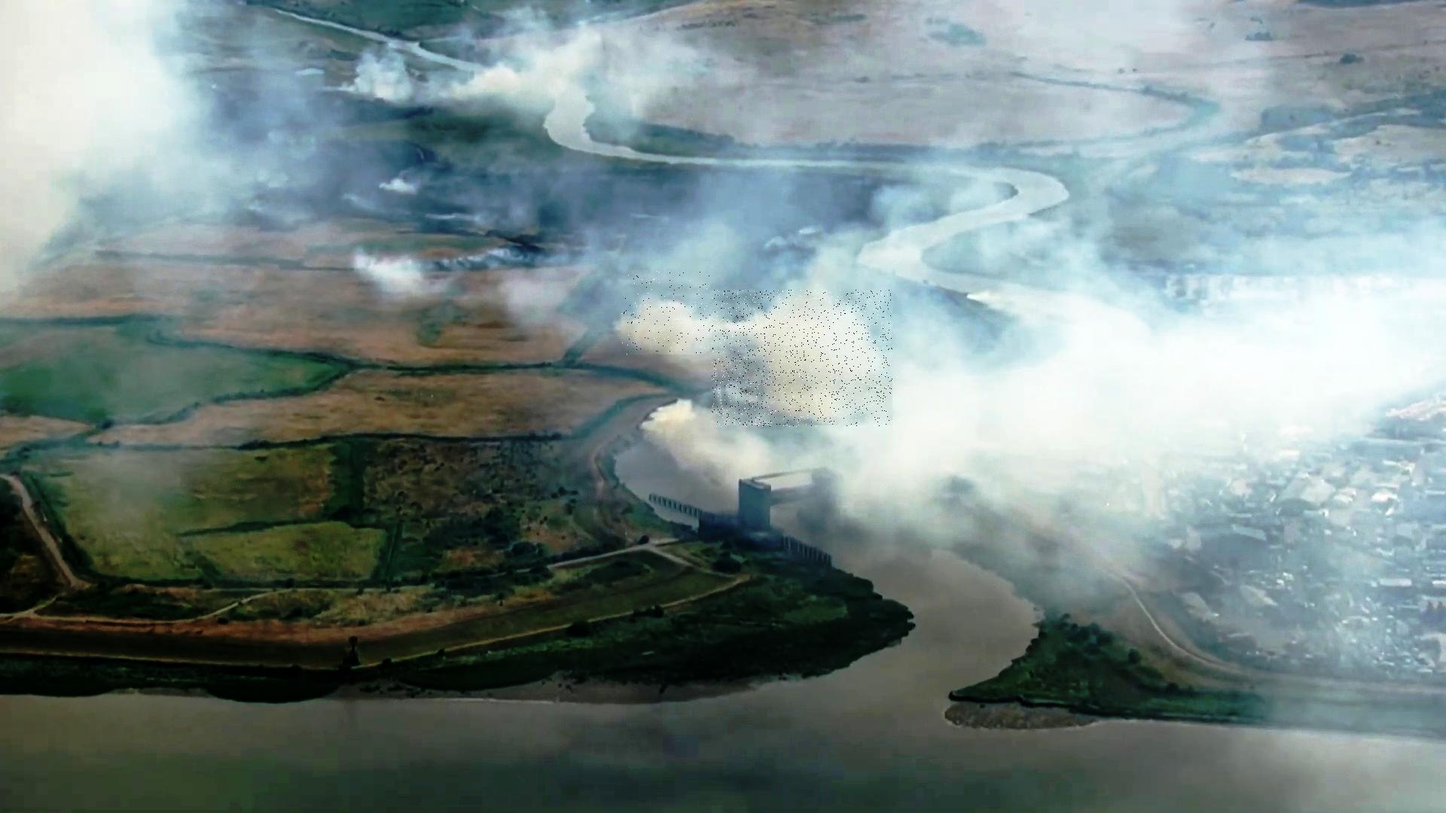smoke: (712, 291, 893, 428), (622, 271, 710, 355)
